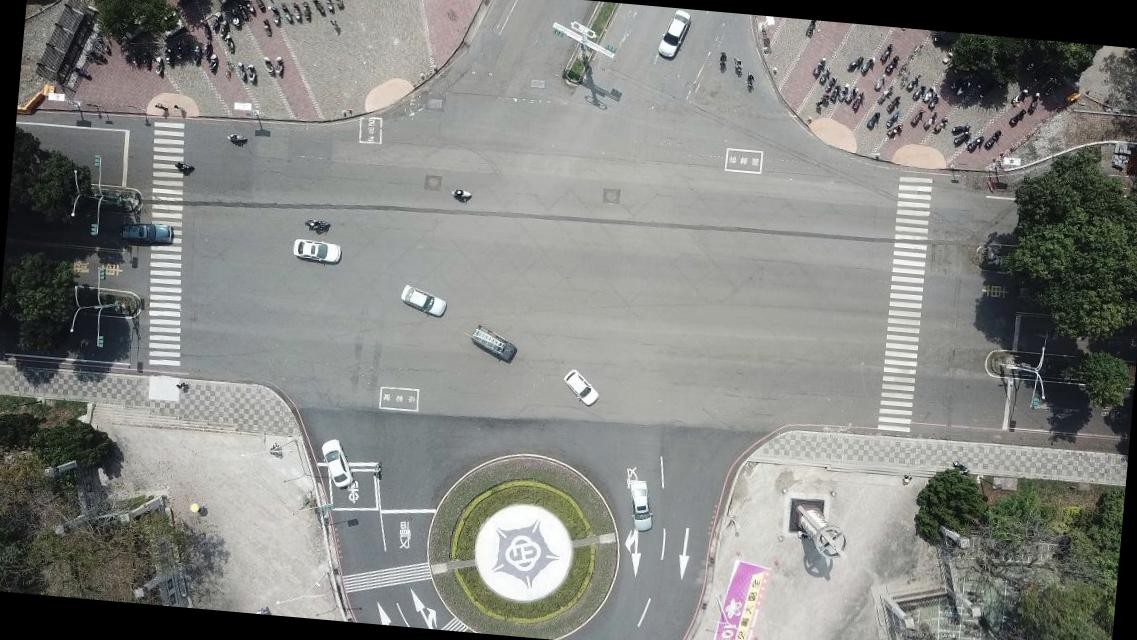vehicle: (316, 439, 356, 489), (656, 6, 692, 61), (469, 324, 518, 362), (623, 478, 656, 532), (398, 285, 447, 318), (560, 368, 598, 408), (118, 222, 174, 246), (292, 240, 343, 264)
